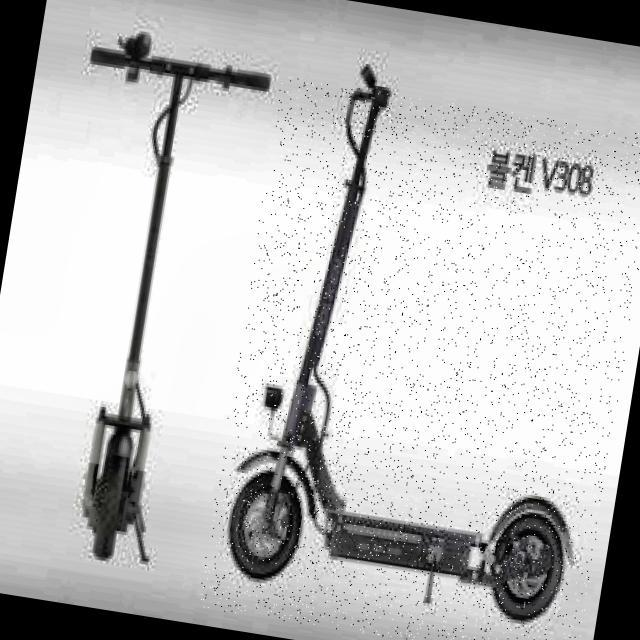bike: (227, 61, 570, 619)
